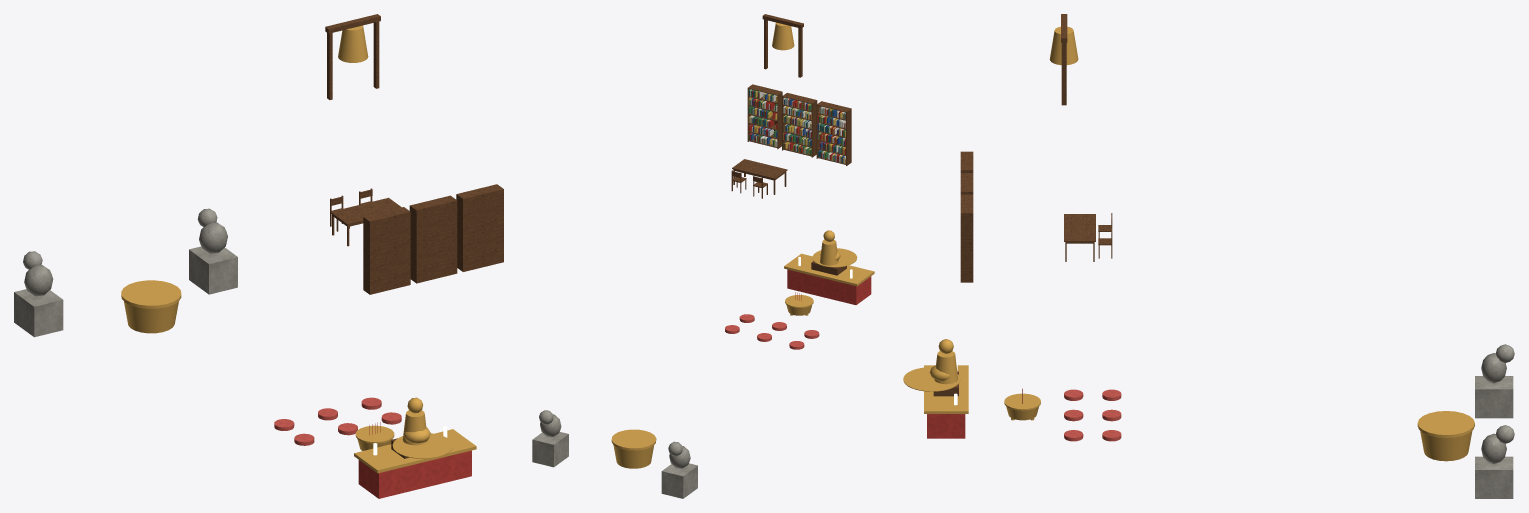
File: i_temple_pagoda.gltf
3 renders of one model, left to right at view 1: azimuth 30°, elevation 25°; view 2: azimuth 150°, elevation 25°; view 3: azimuth 270°, elevation 25°, orthographic. The views are drawn at different scales.
Parts seen in each view (by area): view 1: I_temple_pagoda; view 2: I_temple_pagoda; view 3: I_temple_pagoda.
Part boxes in pixels (x1,y1,x2,y2): I_temple_pagoda: (14,14,503,498); I_temple_pagoda: (532,14,874,498); I_temple_pagoda: (903,14,1514,498).
Bounding box in the file's own units: 7 × 14.75 × 19.2.
Materials: 11 (5 with a texture image).
